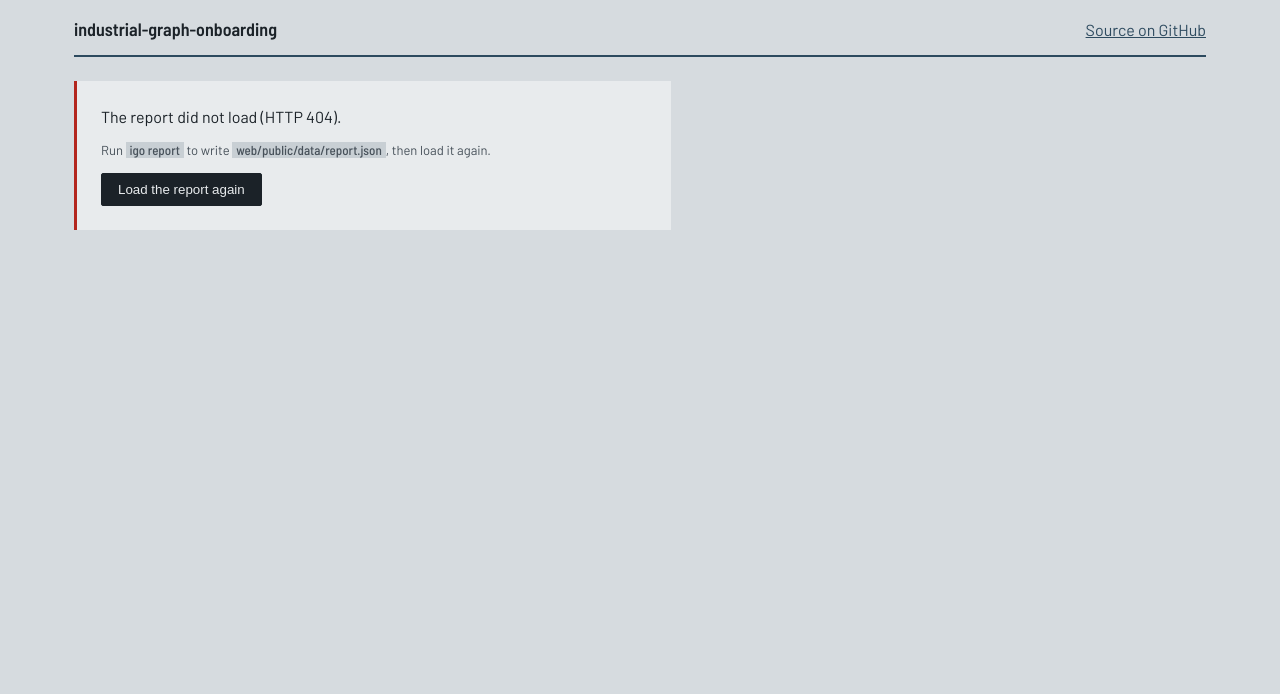
it: App › explains a missing report and loads it again
Expected: the message shows "HTTP 404", [101,107,341,126]
Click the button "Load the report again" at {"x": 181, "y": 189}, box [101,172,262,206]
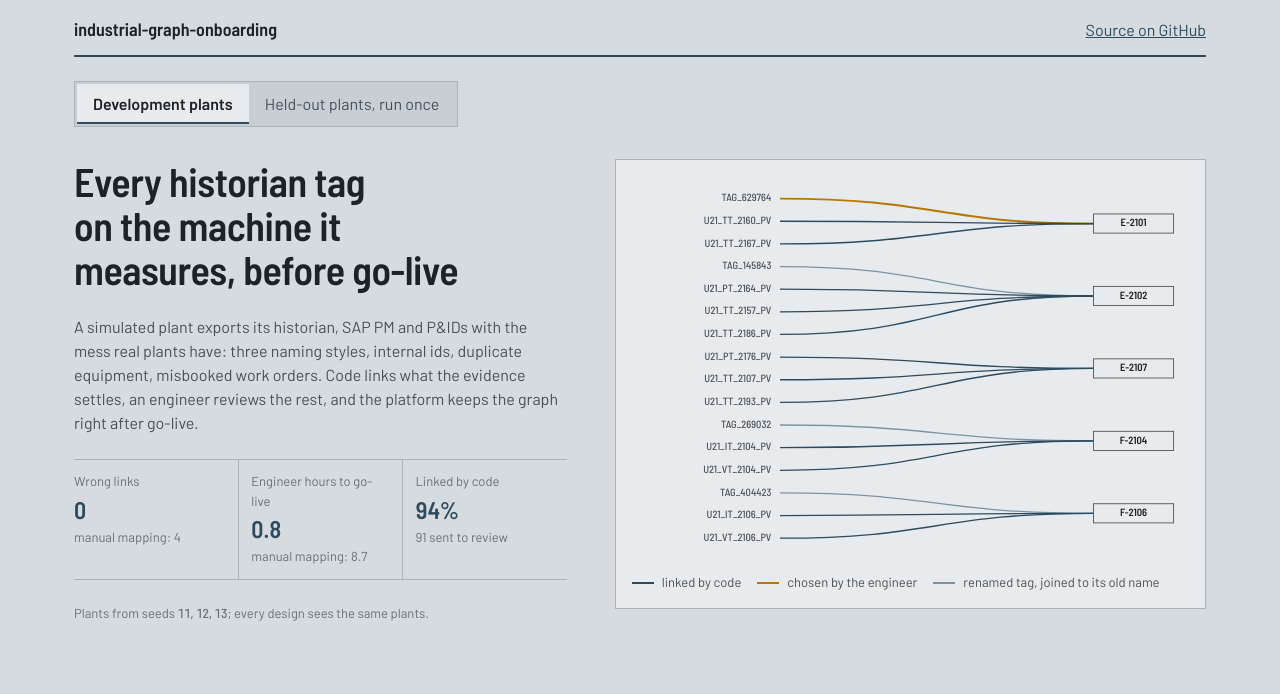
Result: the 1st heading is shown at [74,159,502,291]
